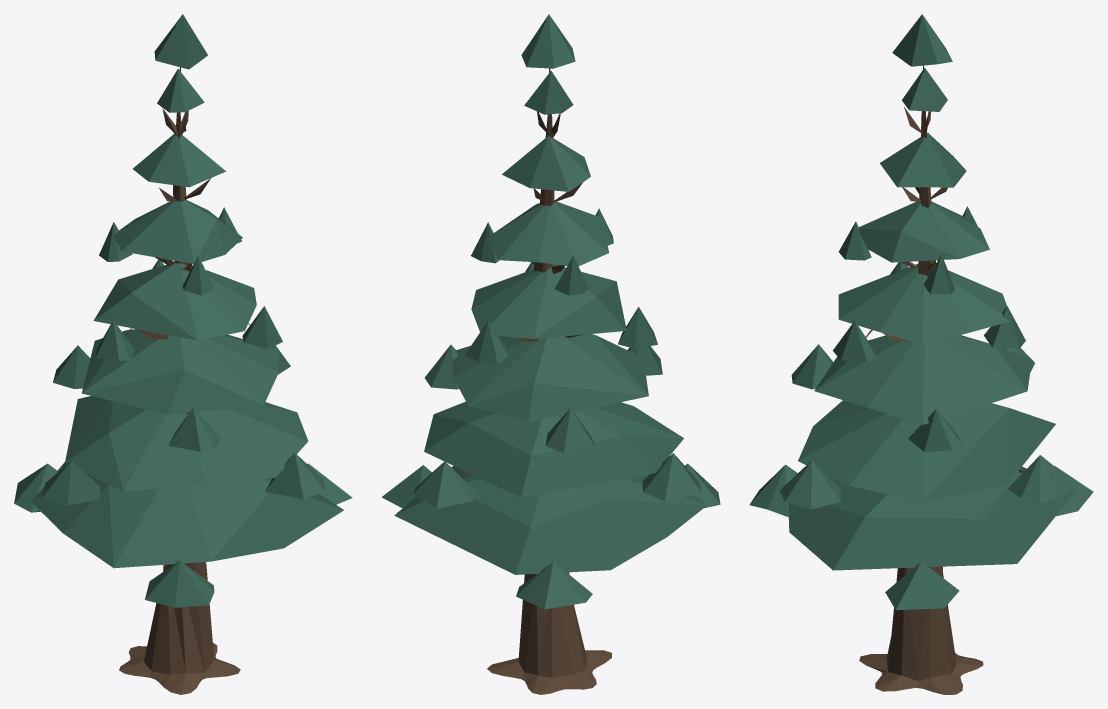
Rendered from spruce_summer.glb.
3 views of the same model, side by side, from view 1: azimuth 30°, elevation 25°; view 2: azimuth 150°, elevation 25°; view 3: azimuth 270°, elevation 25° (orthographic).
Visible parts, largest first — view 1: leaves, branches; view 2: leaves, branches; view 3: leaves, branches.
Part boxes in pixels (box(x1,y1,x2,y2)): leaves: box(14, 14, 352, 607); branches: box(88, 67, 249, 694); leaves: box(382, 14, 720, 609); branches: box(461, 68, 626, 694); leaves: box(749, 14, 1093, 610); branches: box(829, 65, 1023, 694).
Bounding box in the file's own units: 2.88 × 5.91 × 2.8.
